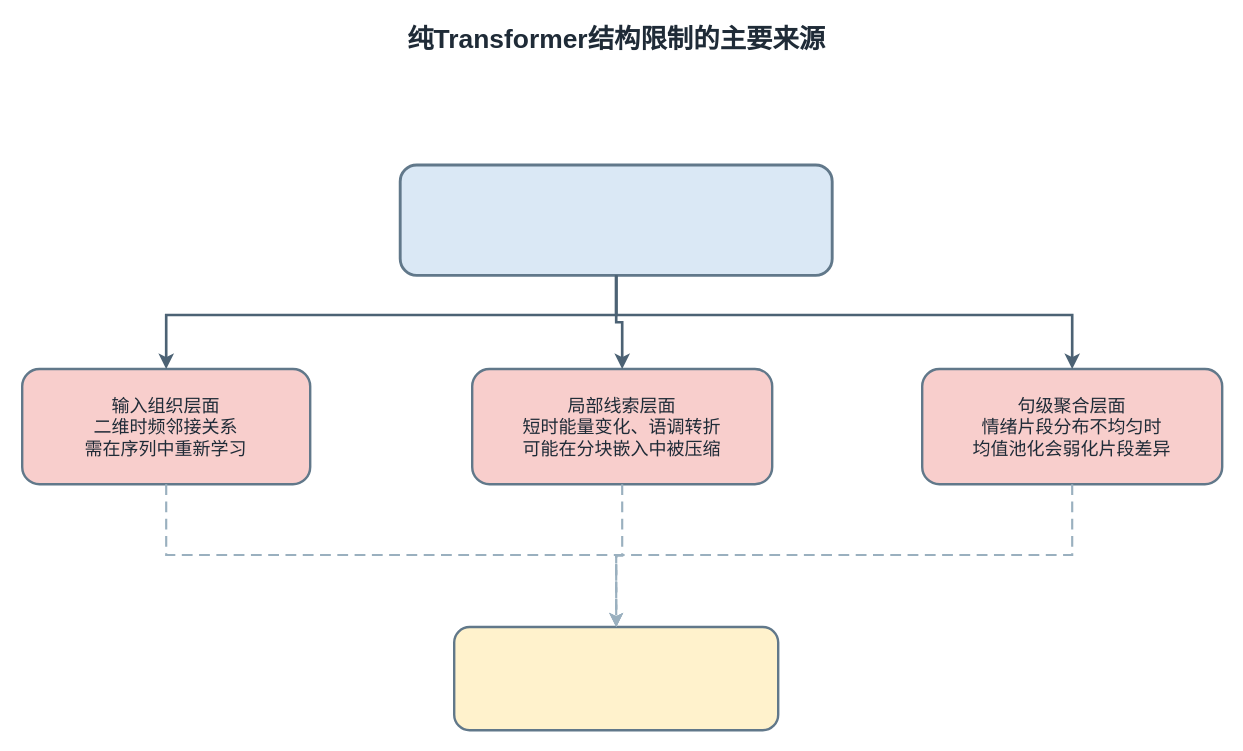
Some shapes in this 1243 by 751 pixel diagram are drawn without their labels. Here are the shapes that lost their labels. From the top down, the centre of each, then its label:
the point at 615,219: 纯Transformer 二维分块 + 全局自注意力 + 均值池化
the point at 615,678: 代表观察 Macro-F1 0.51163 低于卷积基线与CNN-Conformer
